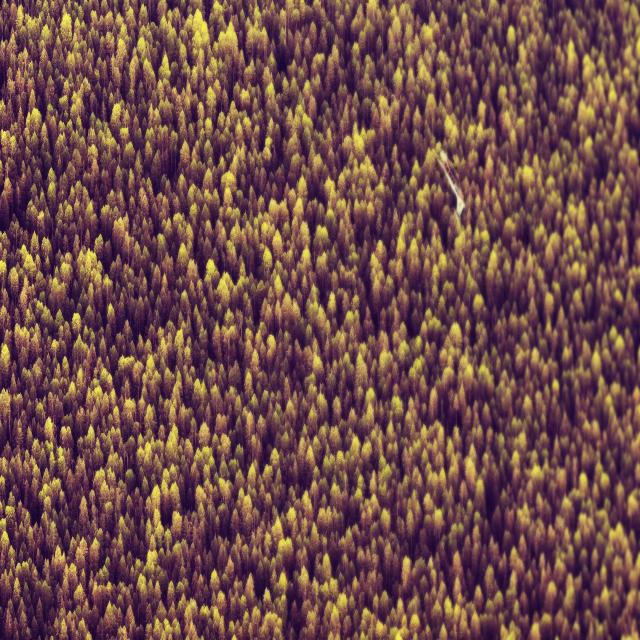airplane: (435, 150, 465, 219)
